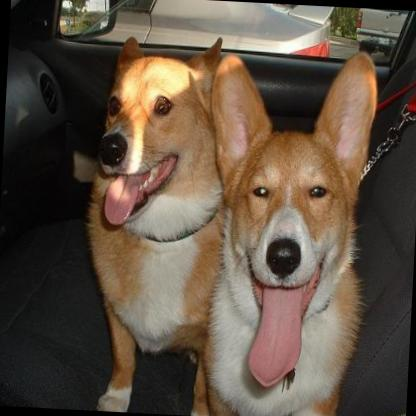Pembroke: (193, 42, 379, 416), (71, 30, 233, 414)
